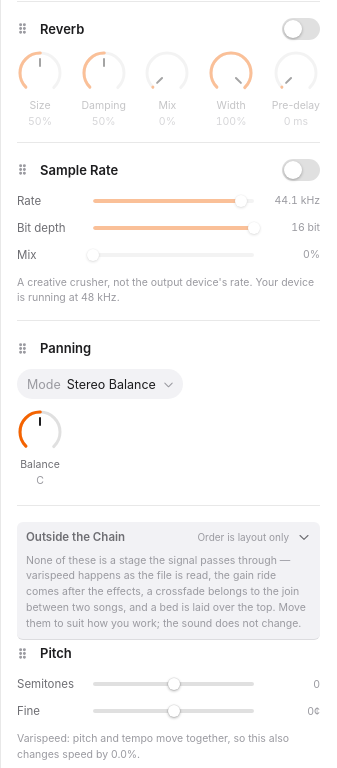
it: AdvancedMixer panning › starts as identity balance and exposes true-stereo centre and width controls
(page scrolled)
Expected: the number of "AppKnob" components is 1, [17, 409, 63, 487]
Click the button with aria-label "Mode" at (100, 384), box [17, 369, 183, 399]
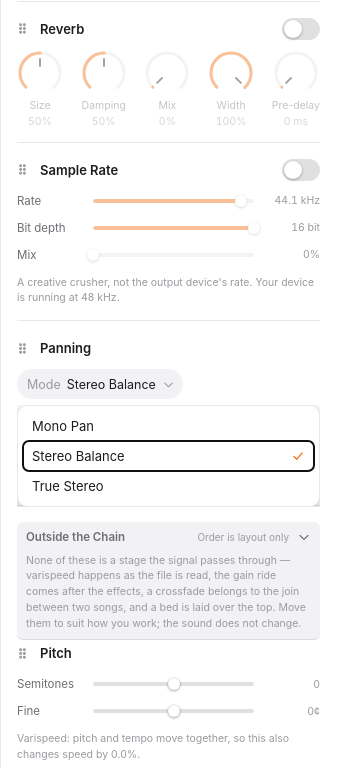
Click the menu item "True Stereo" at (68, 486), box [23, 471, 314, 501]
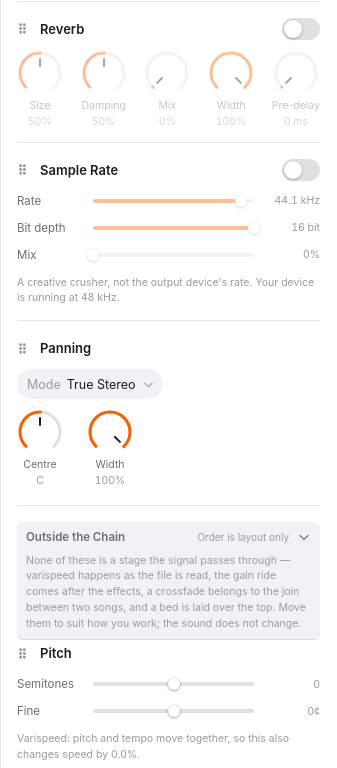
Expected: the text "Width" next to "Pre-delay" is shown, [216, 99, 246, 112]
Expected: the number of "AppKnob" components is 2, [17, 409, 63, 487]; [87, 409, 133, 487]
Expected: the text "Centre" is shown, [23, 458, 57, 471]
